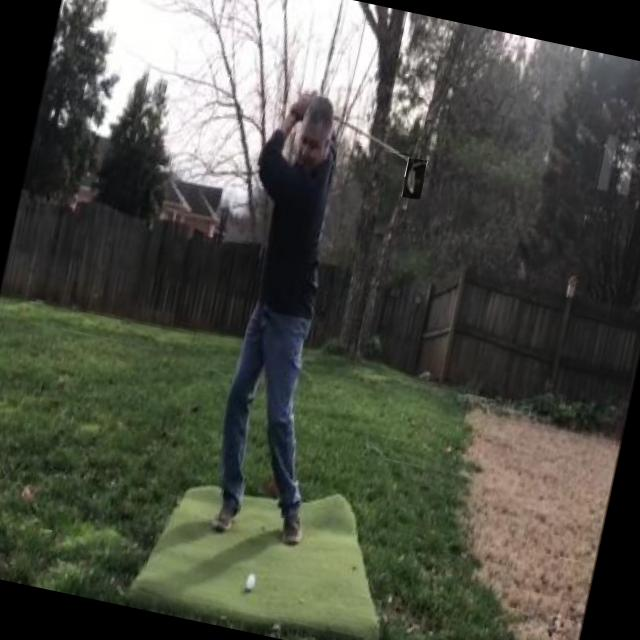club head: (400, 157, 428, 200)
